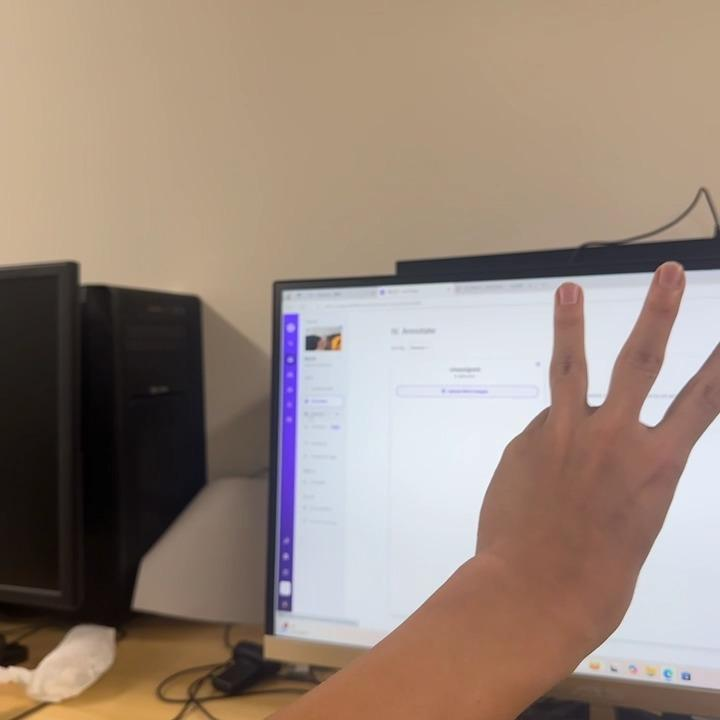without_gloves: (431, 215, 720, 657)
